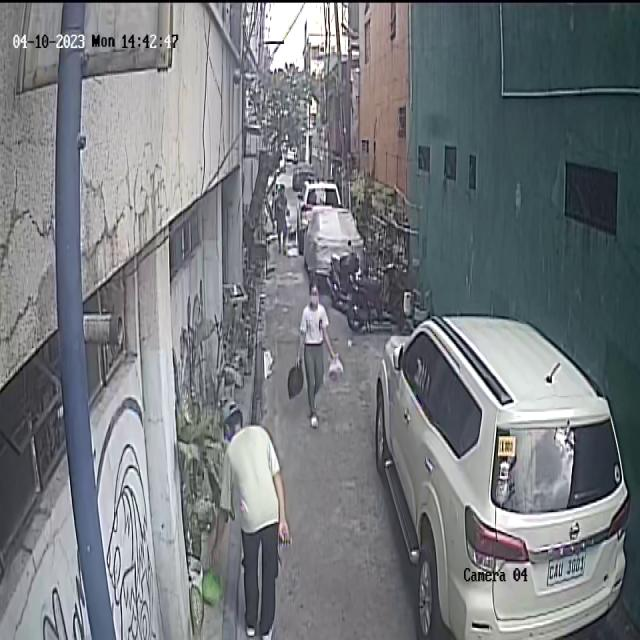garbage_dumping: (200, 562, 227, 607), (289, 356, 305, 402), (327, 350, 345, 382)
